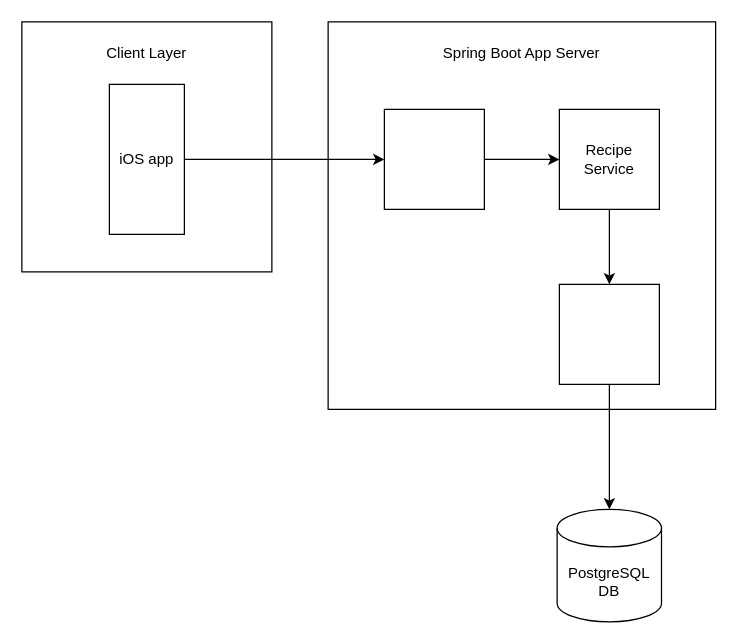
The diagram is 738 pixels wide and 644 high, and some of its shapes have lost their labels. The shapes that lost their labels are listed below. From the top down, each one's box as (x1, y1, x2, y2) in pixels, then its label:
(383, 108, 484, 209): Rest API
(558, 283, 659, 384): Repository Layer
